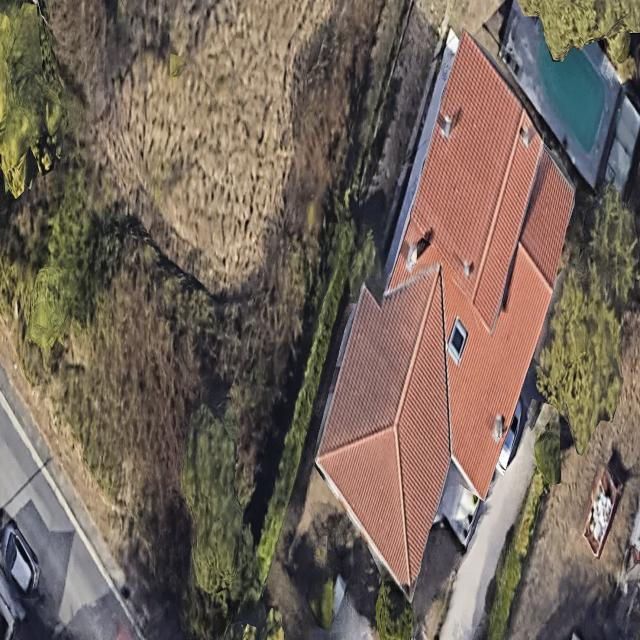maison: (272, 27, 624, 611)
